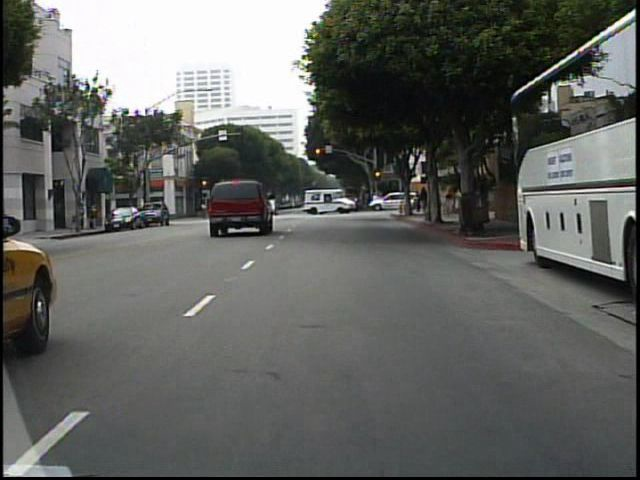person: (443, 182, 459, 220)
